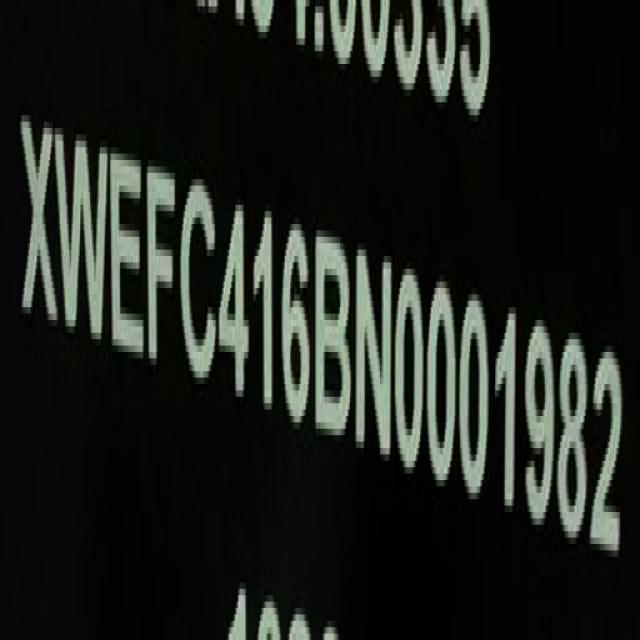0: (394, 256, 427, 485), (458, 287, 488, 507), (428, 273, 457, 497)
1: (497, 298, 520, 523), (256, 205, 277, 424)
2: (594, 346, 625, 570)
4: (217, 191, 250, 413)
6: (280, 213, 315, 432)
8: (557, 328, 590, 548)
9: (524, 316, 554, 533)
B: (314, 225, 352, 455)
C: (182, 166, 221, 397)
E: (110, 137, 146, 373)
F: (144, 146, 178, 382)
N: (357, 238, 396, 476)
W: (56, 117, 110, 356)
X: (18, 101, 58, 343)
